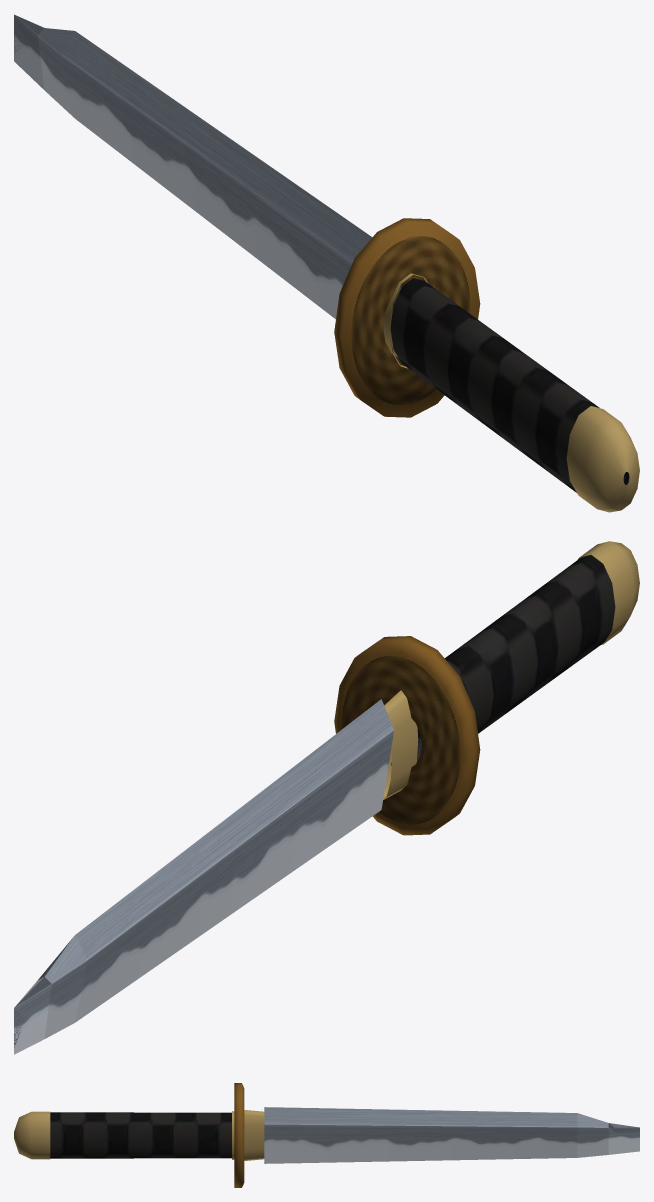
The model's file is tanto.glb.
3 renders of one model, top to bottom at view 1: azimuth 30°, elevation 25°; view 2: azimuth 150°, elevation 25°; view 3: azimuth 270°, elevation 25°, orthographic. The views are drawn at different scales.
Parts seen in each view (by area): view 1: main; view 2: main; view 3: main.
Boxes of the visible parts, x1,y1,x2,y2 form: main: [14, 14, 639, 512]; main: [14, 541, 639, 1054]; main: [14, 1083, 639, 1187].
Size of the model in its own units: 0.0654 by 0.0874 by 0.5.
4 materials, 3 textured.
